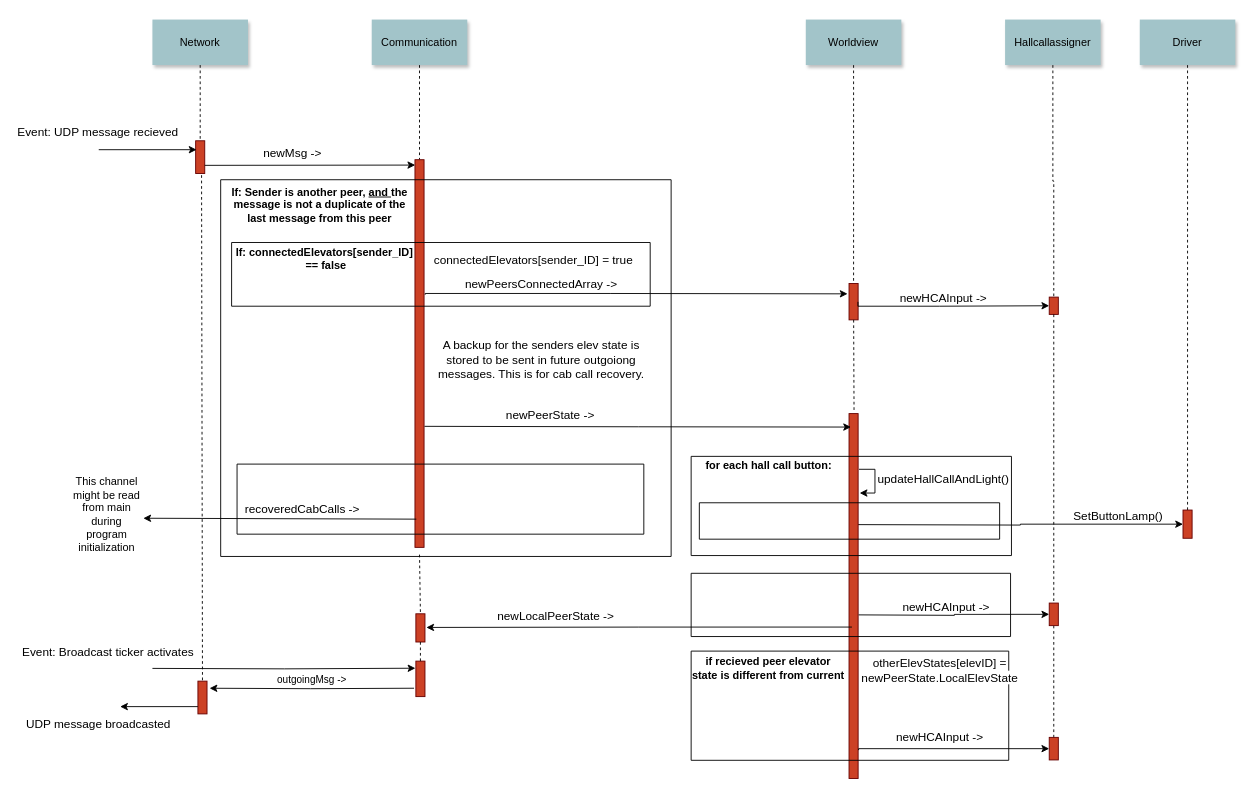
The diagram is 1256 pixels wide and 794 high, and some of its shapes have lost their labels. The shapes that lost their labels are listed below. From the top down, each one's centre as x and y in pixels, then its label:
At [440,498]: "if: local cab calls were recovered from message".
At [849,520]: "if hallcall transition requires light change".
At [850,604]: "if any hall call state was changed".
